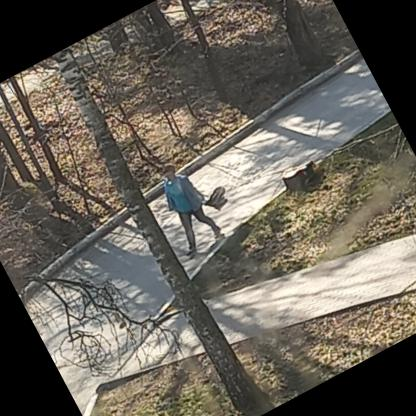Human Body: (144, 158, 225, 261)
